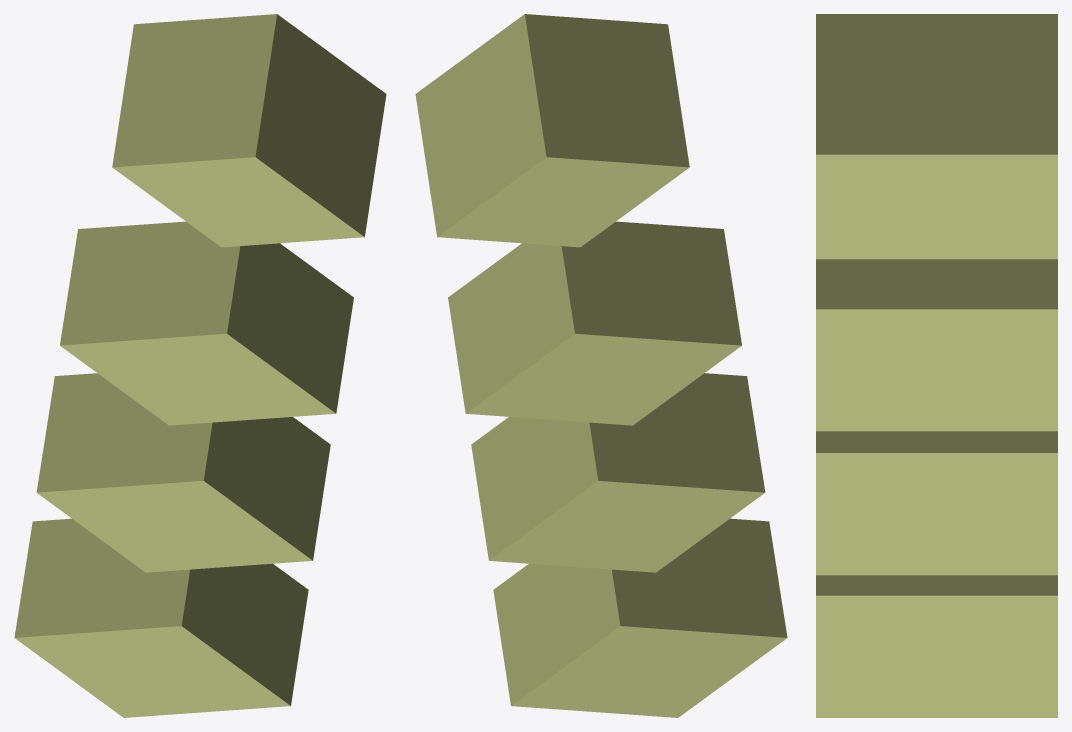
3 views of the same model, side by side, from view 1: azimuth 30°, elevation 25°; view 2: azimuth 150°, elevation 25°; view 3: azimuth 270°, elevation 25° (orthographic). The views are drawn at different scales.
Parts seen in each view (by area): view 1: 0_1_0_0_1_1_3; view 2: 0_1_0_0_1_1_3; view 3: 0_1_0_0_1_1_3.
Part boxes in pixels (<box>): 0_1_0_0_1_1_3: <box>14,14,386,717</box>; 0_1_0_0_1_1_3: <box>415,14,787,717</box>; 0_1_0_0_1_1_3: <box>816,14,1057,717</box>.
Bounding box in the file's own units: 12.48 × 27.85 × 9.
